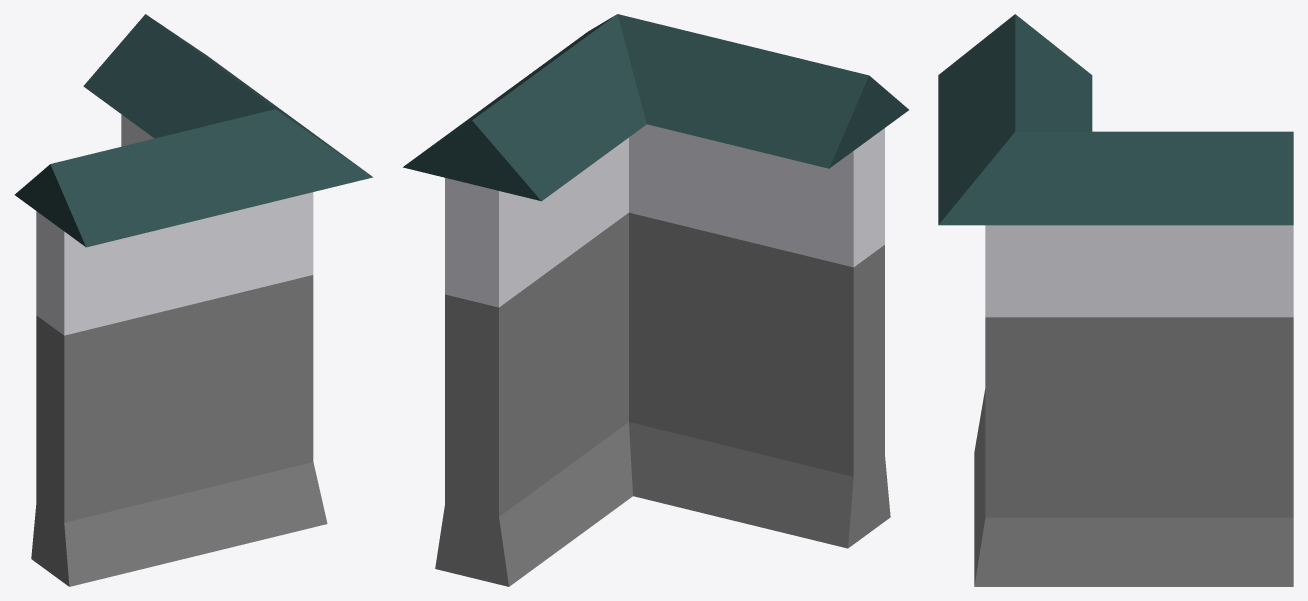
Rendered from Asian_Prop_Building_Fence_Wall_High_Corner_01.FBX.
3 views of the same model, side by side, from view 1: azimuth 30°, elevation 25°; view 2: azimuth 150°, elevation 25°; view 3: azimuth 270°, elevation 25° (orthographic). The views are drawn at different scales.
Visible parts, largest first — view 1: Asian_Prop_Building_Fence_Wall_High_Corner_01; view 2: Asian_Prop_Building_Fence_Wall_High_Corner_01; view 3: Asian_Prop_Building_Fence_Wall_High_Corner_01.
Part boxes in pixels (x1,y1,x2,y2): Asian_Prop_Building_Fence_Wall_High_Corner_01: (14,14,372,586); Asian_Prop_Building_Fence_Wall_High_Corner_01: (403,14,908,586); Asian_Prop_Building_Fence_Wall_High_Corner_01: (938,14,1293,586).
Size of the model in its own units: 2979 by 4051 by 2979.
